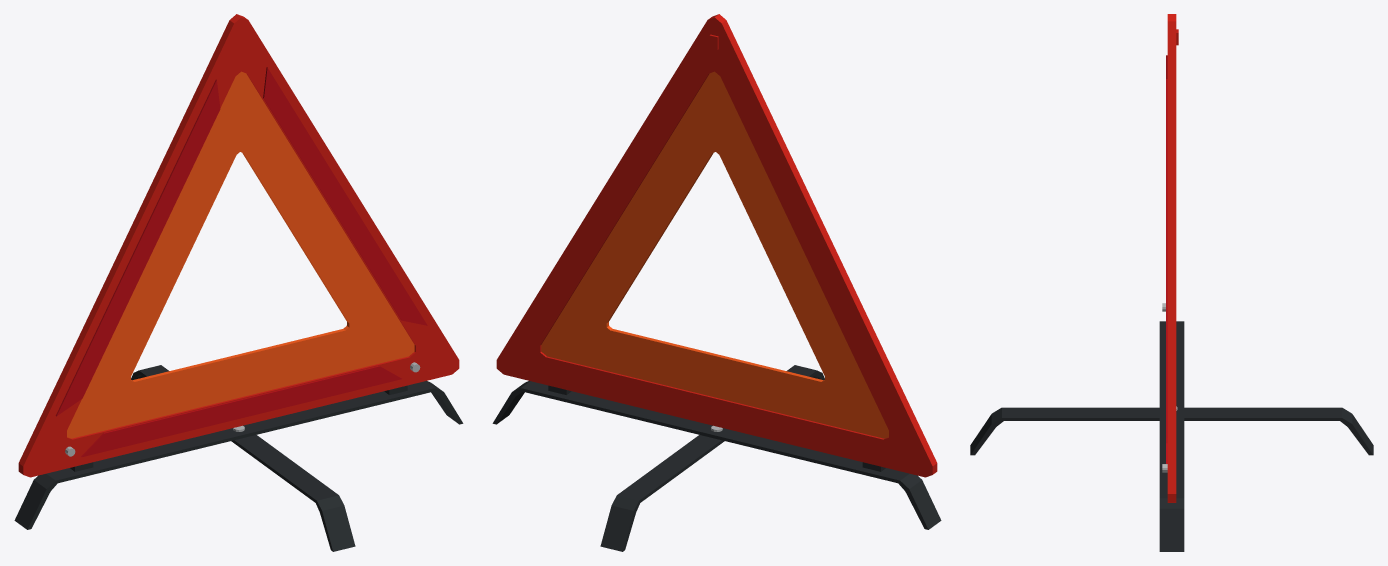
3 views of the same model, side by side, from view 1: azimuth 30°, elevation 25°; view 2: azimuth 150°, elevation 25°; view 3: azimuth 270°, elevation 25° (orthographic). The views are drawn at different scales.
Visible parts, largest first — view 1: 05_Orange_three_span_open_ring, 04_Red_outer_strip_left, 01_Width_bent_metal_strip, 04_Red_outer_strip_right, 04_Red_outer_strip_bottom, 06_Plain_reflective_field_left, 06_Plain_reflective_field_bottom, 06_Plain_reflective_field_right, 02_Depth_bent_metal_strip; view 2: 05_Orange_three_span_open_ring, 04_Red_outer_strip_left, 04_Red_outer_strip_bottom, 04_Red_outer_strip_right, 01_Width_bent_metal_strip, 02_Depth_bent_metal_strip; view 3: 02_Depth_bent_metal_strip, 04_Red_outer_strip_right, 01_Width_bent_metal_strip, 06_Plain_reflective_field_right.
Part boxes in pixels (x1,y1,x2,y2): 05_Orange_three_span_open_ring: (67, 71, 414, 438); 04_Red_outer_strip_left: (18, 14, 241, 474); 01_Width_bent_metal_strip: (14, 381, 463, 529); 04_Red_outer_strip_right: (237, 14, 459, 368); 04_Red_outer_strip_bottom: (24, 352, 458, 477); 06_Plain_reflective_field_left: (55, 79, 220, 416); 06_Plain_reflective_field_bottom: (81, 366, 401, 456); 06_Plain_reflective_field_right: (263, 67, 427, 325); 02_Depth_bent_metal_strip: (131, 365, 355, 551); 05_Orange_three_span_open_ring: (541, 71, 888, 438); 04_Red_outer_strip_left: (714, 14, 937, 474); 04_Red_outer_strip_bottom: (497, 352, 931, 477); 04_Red_outer_strip_right: (496, 14, 718, 368); 01_Width_bent_metal_strip: (492, 381, 941, 529); 02_Depth_bent_metal_strip: (600, 365, 824, 551); 02_Depth_bent_metal_strip: (970, 407, 1373, 455); 04_Red_outer_strip_right: (1167, 14, 1176, 502); 01_Width_bent_metal_strip: (1159, 321, 1184, 551); 06_Plain_reflective_field_right: (1166, 79, 1167, 438).
Bounding box in the file's own units: 0.43 × 0.43 × 0.36.
